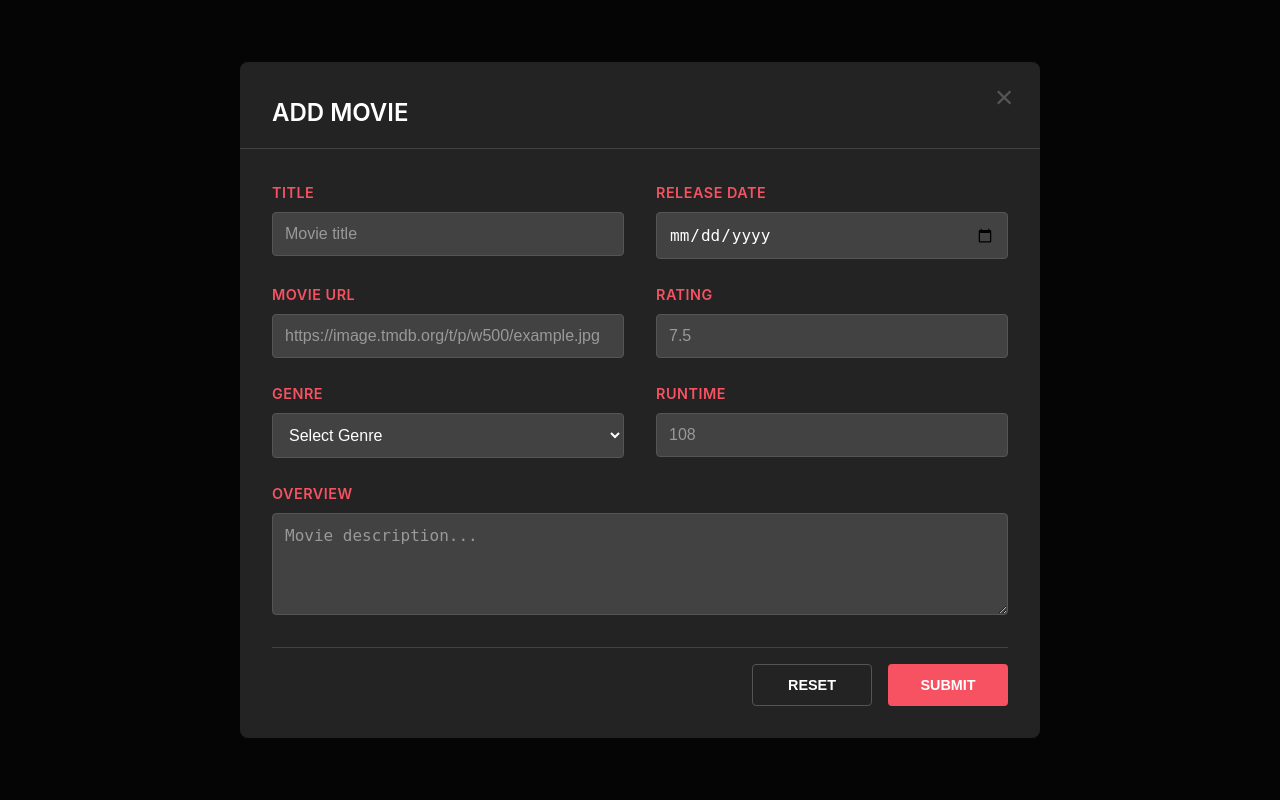
Test case: AddMovieModal Component › shows validation errors for empty required fields
Click the button "SUBMIT". click: x=948, y=685
box: [888,664,1008,706]
(page scrolled)
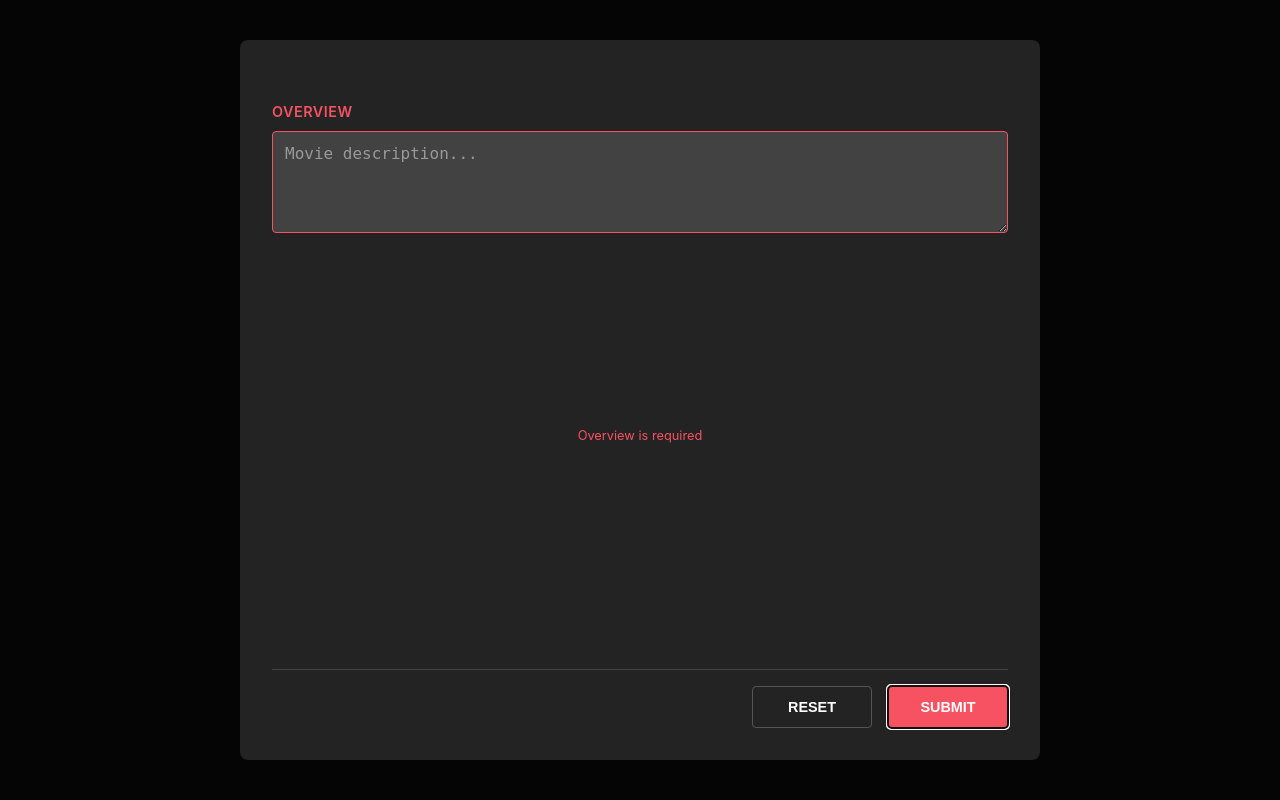
Expected: the text "Overview is required" is shown, [578,428,702,443]
